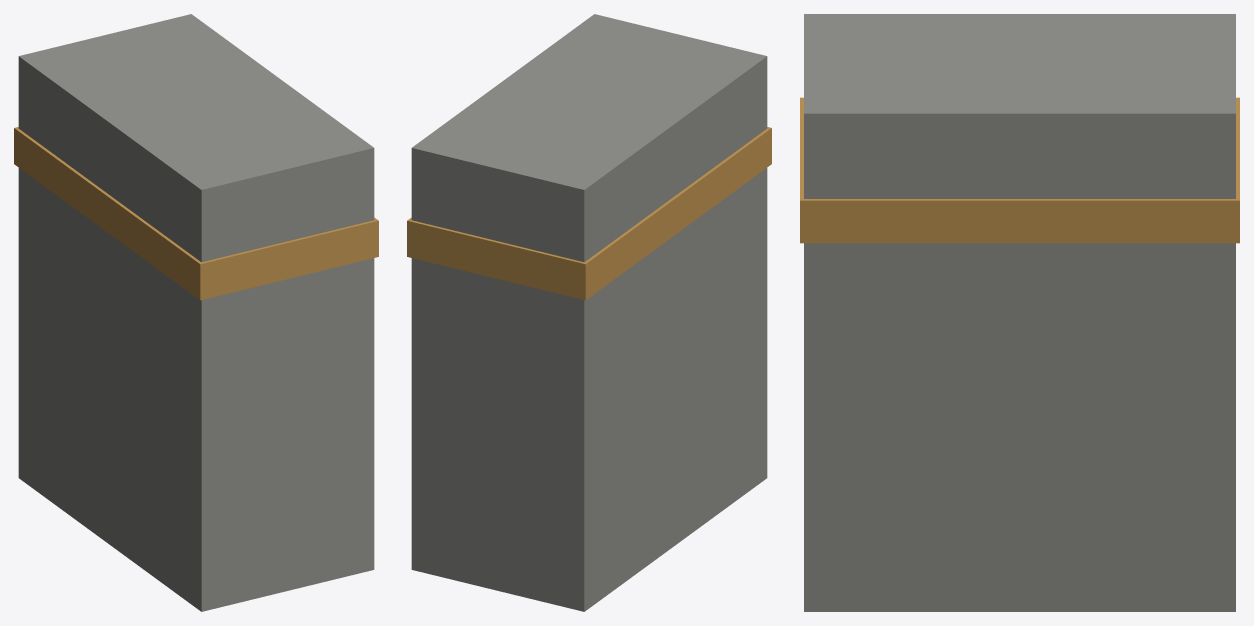
File: bookend_concrete.glb
The picture shows the model from 3 angles, left to right: view 1: azimuth 30°, elevation 25°; view 2: azimuth 150°, elevation 25°; view 3: azimuth 270°, elevation 25°; orthographic projection. The views are drawn at different scales.
Visible parts, largest first — view 1: Part0, Part1; view 2: Part0, Part1; view 3: Part0, Part1.
Boxes of the visible parts, x1=… form: Part0: x1=18, y1=14, x2=374, y2=611; Part1: x1=14, y1=127, x2=378, y2=300; Part0: x1=411, y1=14, x2=767, y2=611; Part1: x1=407, y1=127, x2=771, y2=300; Part0: x1=804, y1=14, x2=1235, y2=611; Part1: x1=800, y1=97, x2=1239, y2=243.
Bounding box in the file's own units: 0.062 × 0.14 × 0.112.
